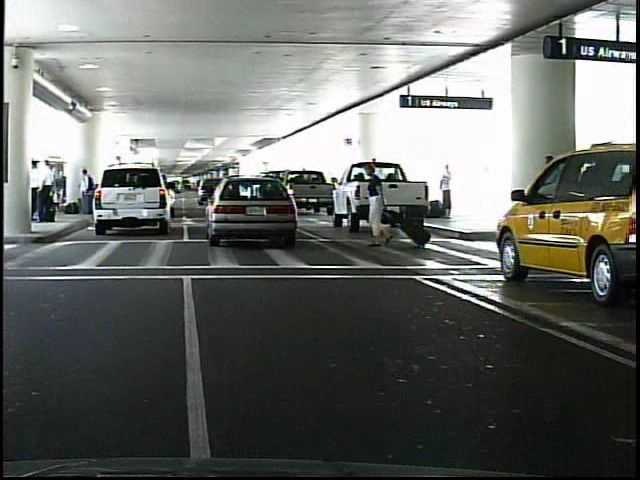person: (366, 162, 392, 250), (436, 160, 458, 218), (45, 160, 60, 226), (83, 165, 99, 221)
